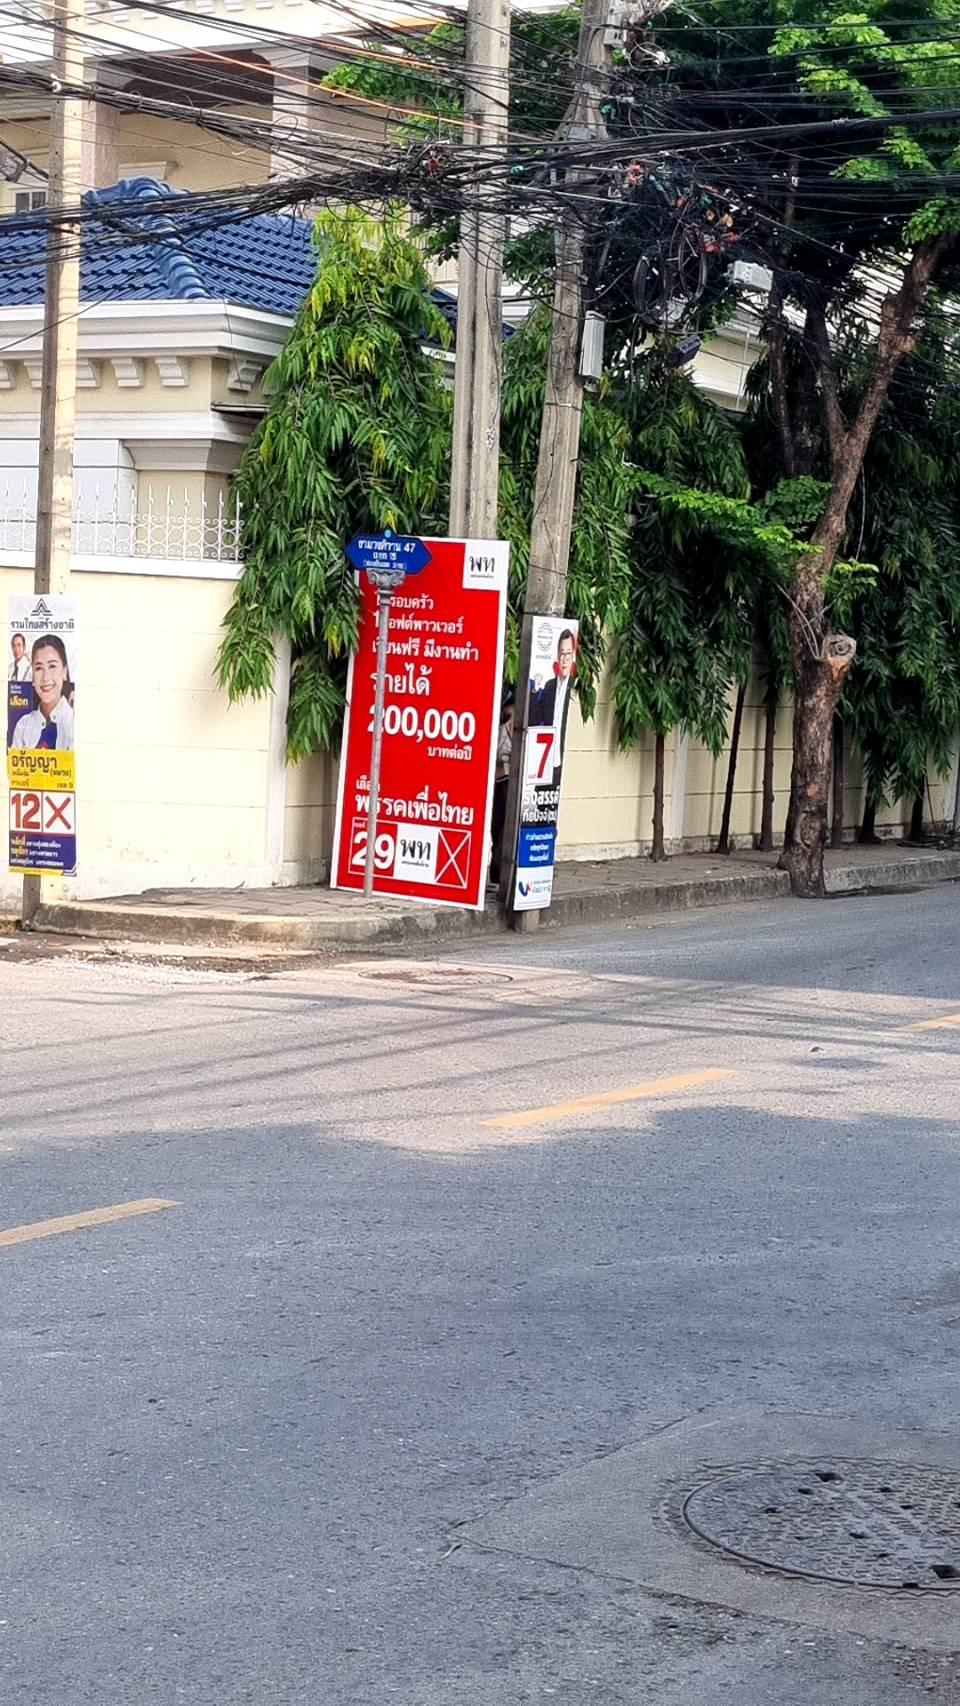Banner: (341, 531, 484, 886), (0, 586, 79, 886), (524, 619, 577, 917)
